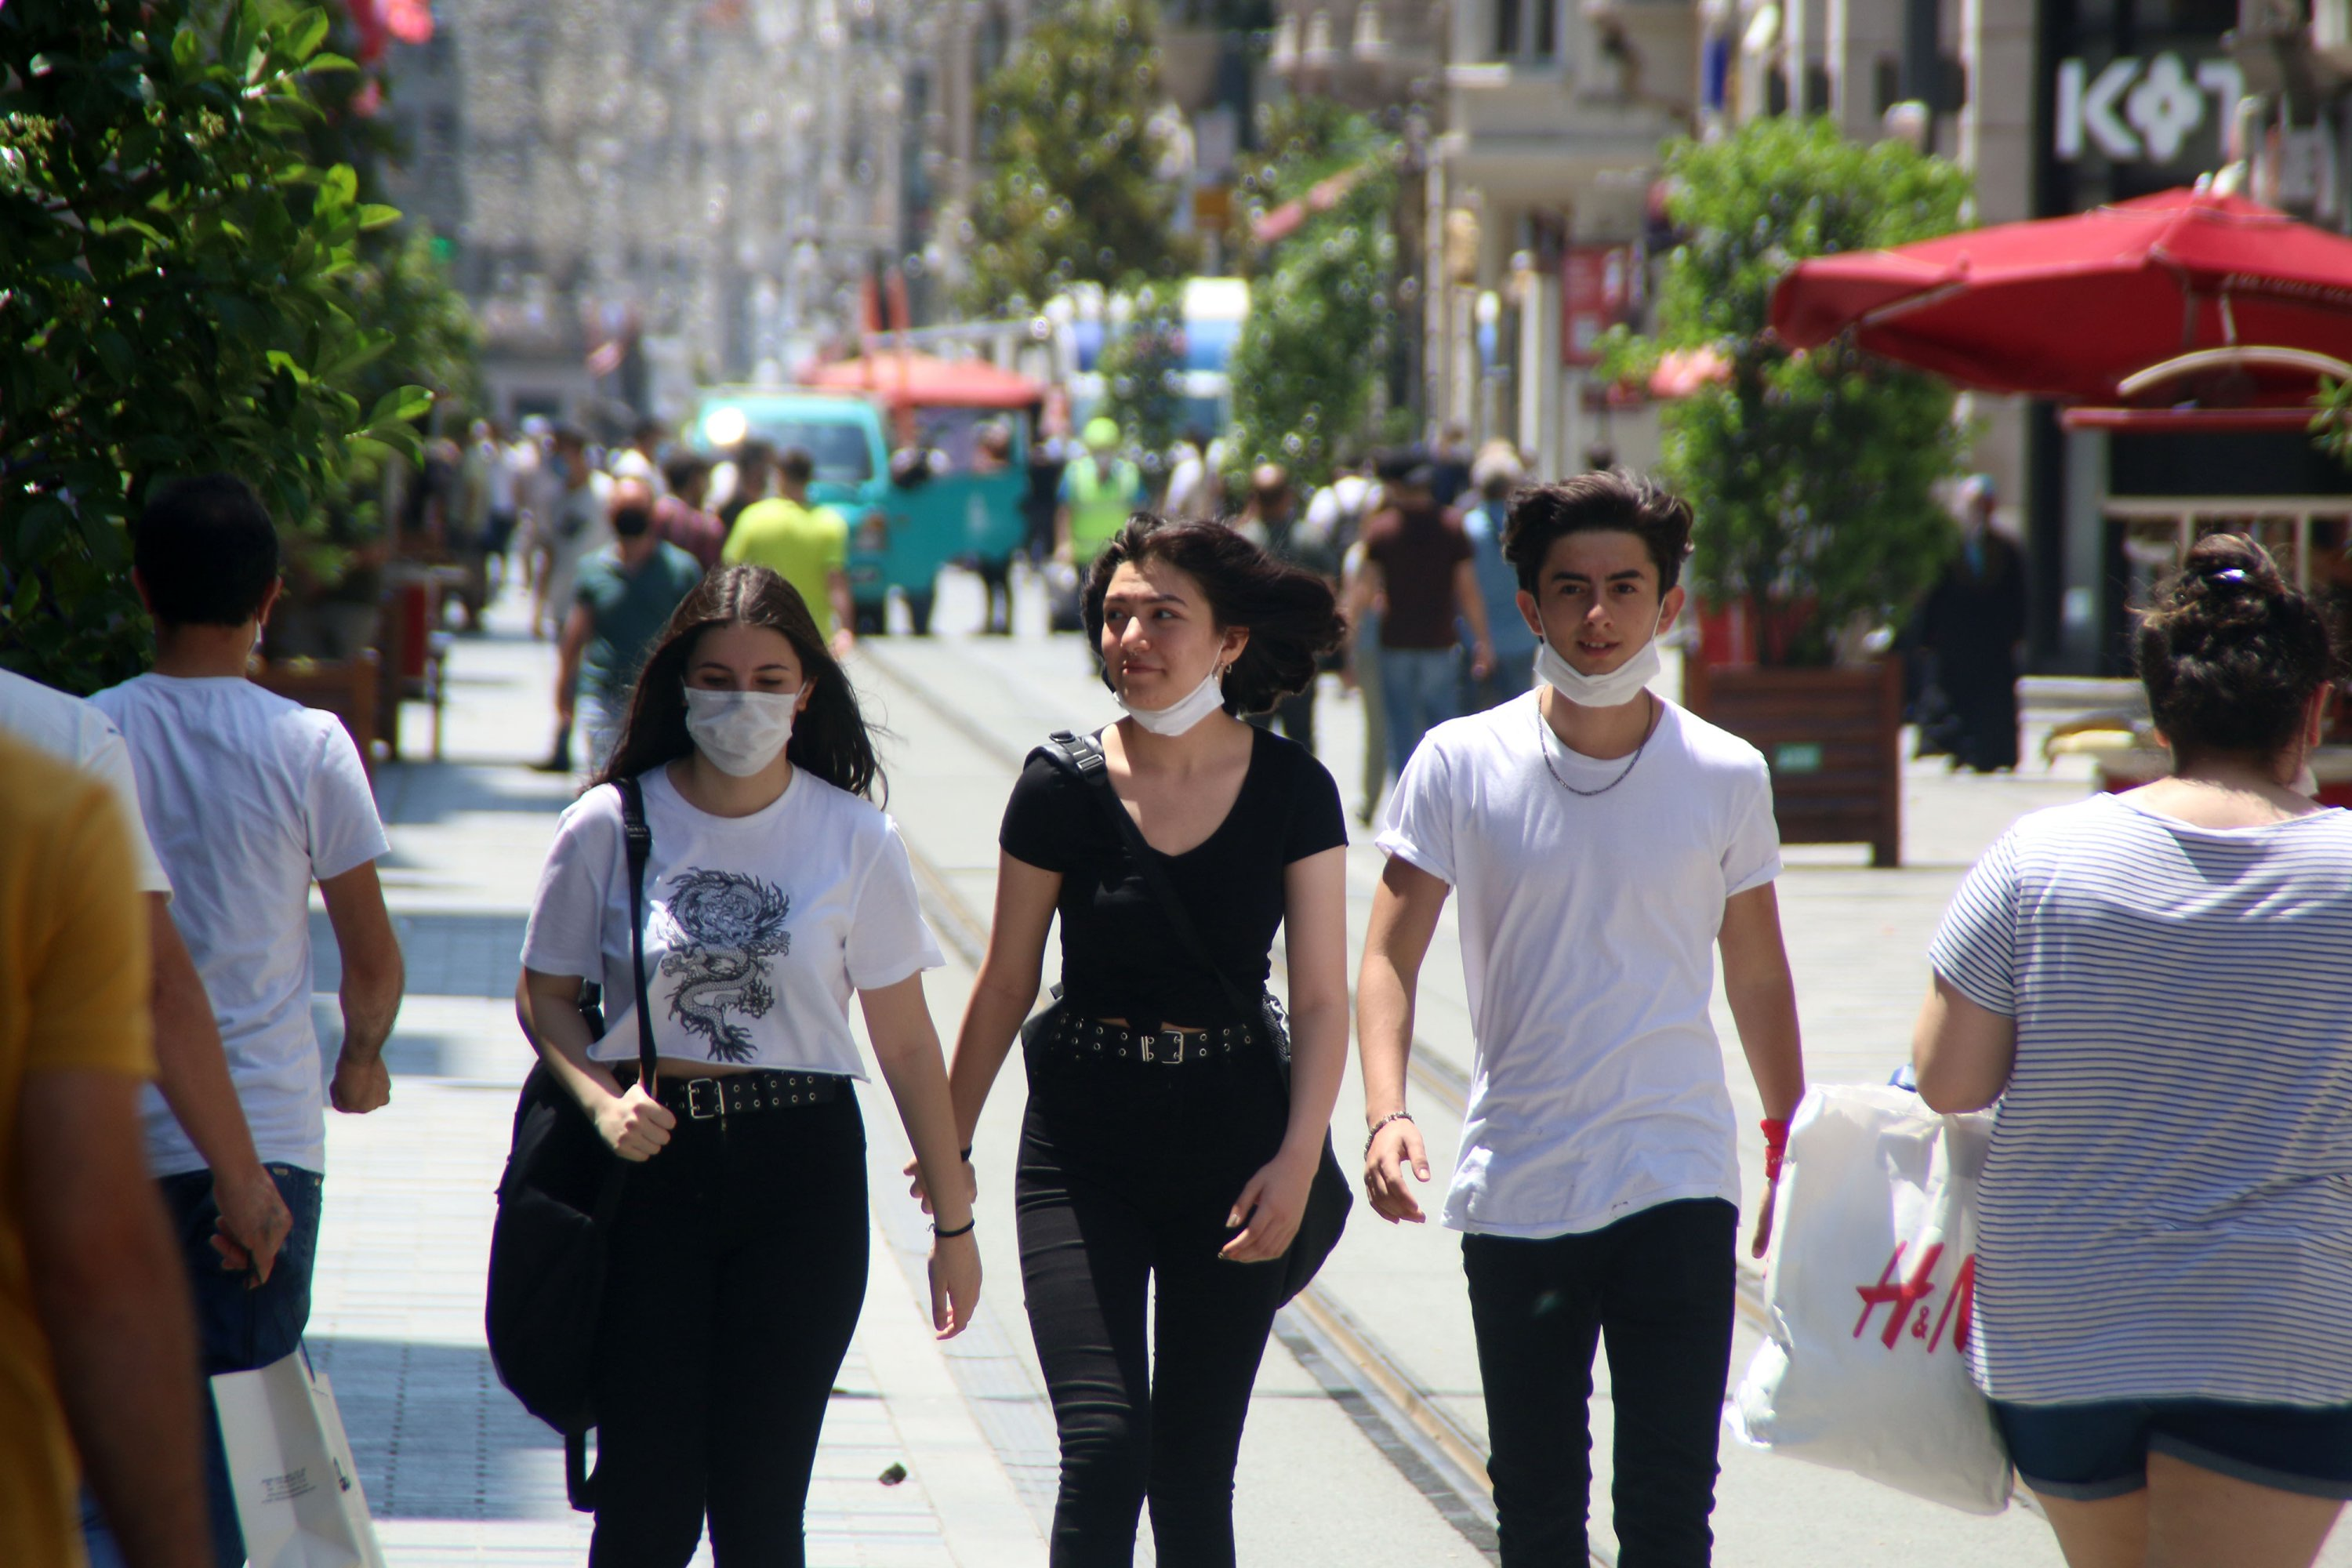with_incorrect_mask: (1551, 548, 1655, 691)
with_mask: (686, 652, 797, 764)
without_mask: (1109, 581, 1201, 691)
